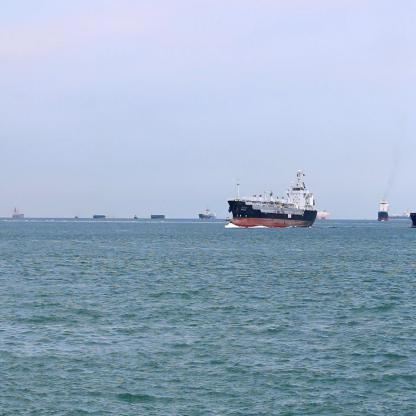Container Ship: (227, 167, 319, 231), (388, 208, 411, 222), (376, 198, 388, 223), (150, 212, 166, 220)
